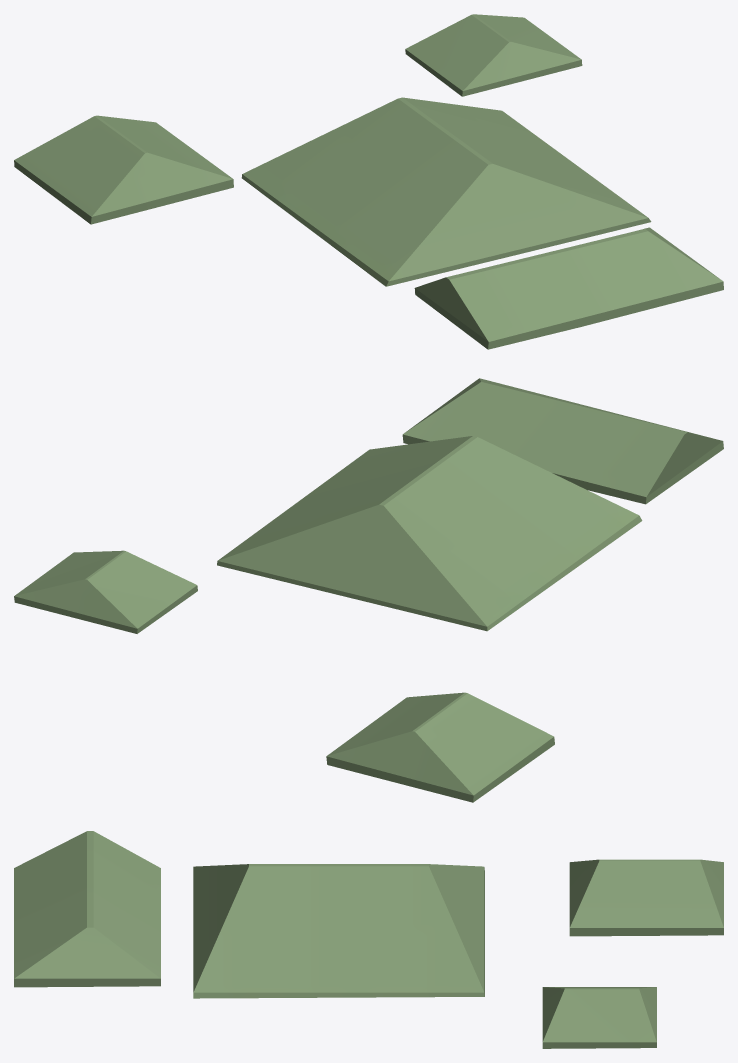
The model's file is techos verde.fbx.
3 views of the same model, one above another, from view 1: azimuth 30°, elevation 25°; view 2: azimuth 150°, elevation 25°; view 3: azimuth 270°, elevation 25° (orthographic). The views are drawn at different scales.
Visible parts, largest first — view 1: techo_tipo_10, techo_tipo_13, techo_tipo_12, techo_tipo_11; view 2: techo_tipo_10, techo_tipo_13, techo_tipo_12, techo_tipo_11; view 3: techo_tipo_10, techo_tipo_13, techo_tipo_12, techo_tipo_11.
Part boxes in pixels (x1,y1,x2,y2): techo_tipo_10: [241, 97, 651, 286]; techo_tipo_13: [414, 227, 723, 349]; techo_tipo_12: [14, 115, 233, 224]; techo_tipo_11: [405, 14, 582, 96]; techo_tipo_10: [217, 436, 642, 631]; techo_tipo_13: [402, 378, 723, 504]; techo_tipo_12: [326, 692, 554, 802]; techo_tipo_11: [14, 550, 197, 633]; techo_tipo_10: [193, 864, 484, 998]; techo_tipo_13: [14, 831, 160, 987]; techo_tipo_12: [569, 859, 723, 936]; techo_tipo_11: [542, 987, 656, 1048].
Bounding box in the file's own units: 3036 × 732 × 3937.
